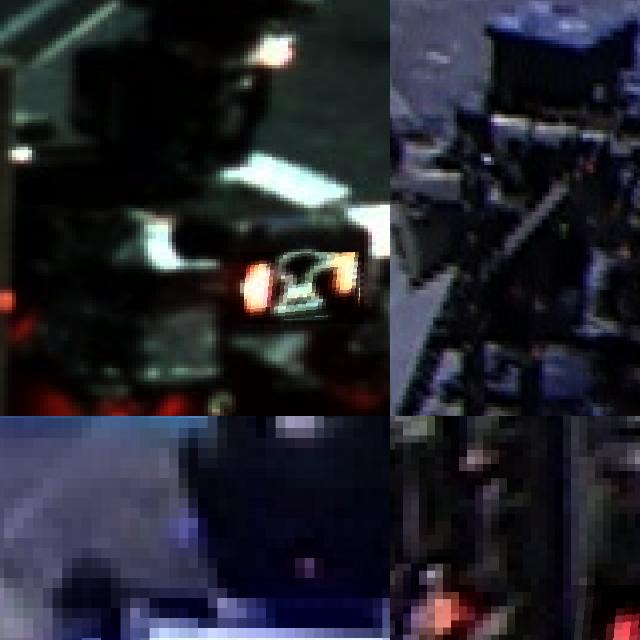R2: (571, 584, 640, 640)
Rs: (244, 252, 364, 324)
